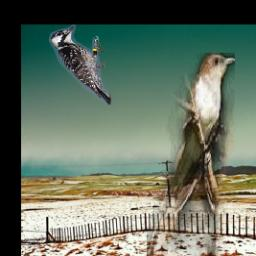Cuckoo: (147, 53, 235, 256)
Woodpecker: (50, 24, 112, 105)
